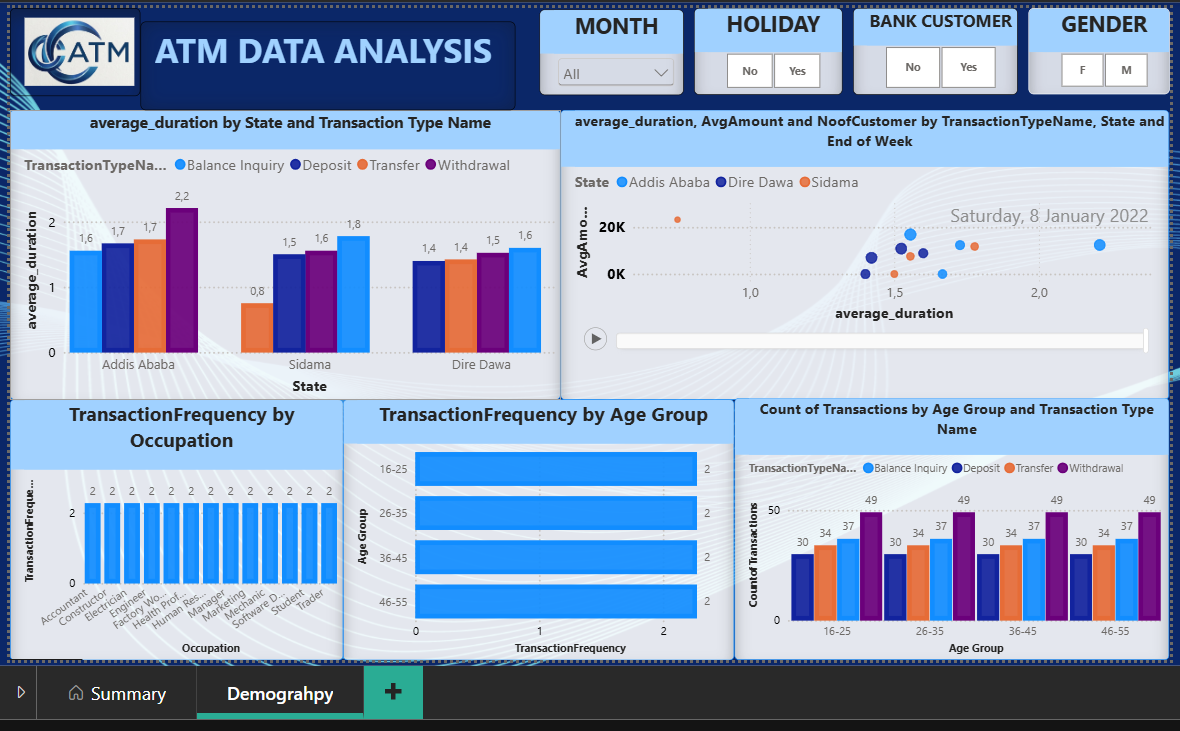

The dashboard page shown, as its layout file describes it:
{"tool":"powerbi","page":{"name":"Demograhpy","canvas":[1280,720],"ordinal":1},"visuals":[{"type":"columnChart","fields":{"Category":["Customers.Occupation"],"Y":["Measure_Table.TransactionFrequency"]},"box":[0,432,368,288],"z":0},{"type":"barChart","fields":{"Category":["Customers.Age Group"],"Y":["Measure_Table.TransactionFrequency"]},"box":[368,432,432,288],"z":1000},{"type":"map","fields":{"Category":["Location.State"],"Size":["Measure_Table.Utilaization Rate"]},"box":[0,719,64.8,2],"z":2000},{"type":"clusteredColumnChart","title":"average_duration by State and Transaction Type Name","fields":{"Category":["Location.State"],"Series":["Transaction_Type.TransactionTypeName"],"Y":["Measure_Table.average_duration"]},"box":[0,112,608,320],"z":3000},{"type":"scatterChart","fields":{"Category":["Transaction_Type.TransactionTypeName"],"Play":["Calender.End of Week"],"Series":["Location.State"],"Size":["Measure_Table.NoofCustomer"],"X":["Measure_Table.average_duration"],"Y":["Measure_Table.AvgAmount"]},"box":[608,112,672,320],"z":4000},{"type":"clusteredColumnChart","title":"Count of Transactions by Age Group and Transaction Type Name","fields":{"Category":["Customers.Age Group"],"Series":["Transaction_Type.TransactionTypeName"],"Y":["Measure_Table.CountofTransactions"]},"box":[800,431.4,480,289.6],"z":6000},{"type":"textbox","box":[144.1,14.9,414.1,111],"z":7000},{"type":"slicer","title":"GENDER","fields":{"Values":["Customers.Gender"]},"box":[1124.1,0,155.9,95.2],"z":10000},{"type":"slicer","title":"BANK CUSTOMER","fields":{"Values":["Customers.IsA"]},"box":[930.9,0,182.2,96.1],"z":11000},{"type":"slicer","title":"HOLIDAY","fields":{"Values":["Calender.IsHoliday"]},"box":[755.4,0,164,96.1],"z":12000},{"type":"slicer","title":"MONTH","fields":{"Values":["Calender.Month Name"]},"box":[584.7,1.7,159,94.4],"z":13000},{"type":"image","box":[0,0,143.8,97.2],"z":13001}]}

Visuals, with their boxes in screenshot pixels (x1, y1, x2, y2):
columnChart - Customers.Occupation x Measure_Table.TransactionFrequency: left=3, top=399, right=338, bottom=661
barChart - Customers.Age Group x Measure_Table.TransactionFrequency: left=338, top=399, right=730, bottom=661
map - Location.State x Measure_Table.Utilaization Rate: left=3, top=660, right=62, bottom=662
"average_duration by State and Transaction Type Name" clusteredColumnChart: left=3, top=108, right=556, bottom=399
scatterChart - Transaction_Type.TransactionTypeName x Calender.End of Week: left=556, top=108, right=1167, bottom=399
"Count of Transactions by Age Group and Transaction Type Name" clusteredColumnChart: left=730, top=398, right=1167, bottom=662
textbox: left=134, top=20, right=511, bottom=121
"GENDER" slicer: left=1025, top=6, right=1167, bottom=93
"BANK CUSTOMER" slicer: left=849, top=6, right=1015, bottom=94
"HOLIDAY" slicer: left=690, top=6, right=839, bottom=94
"MONTH" slicer: left=535, top=8, right=679, bottom=94
image: left=3, top=6, right=134, bottom=95
